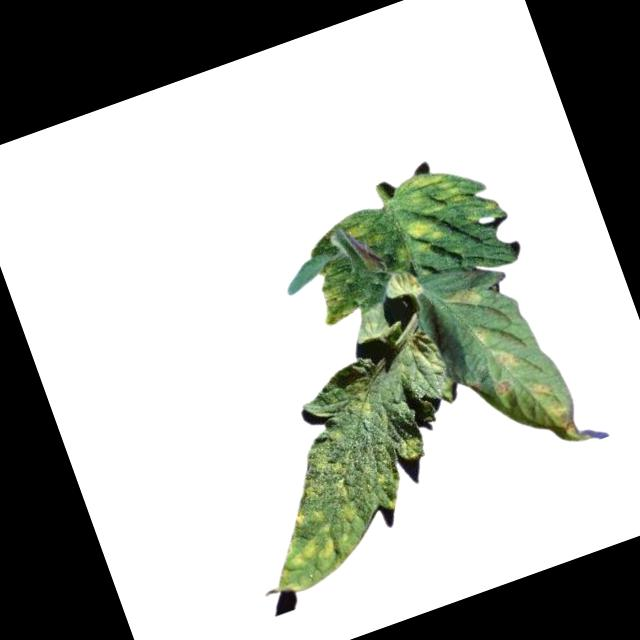Leaf_Mold: (233, 428, 387, 600), (384, 152, 507, 260), (311, 276, 363, 329), (540, 399, 581, 444), (382, 264, 426, 303), (486, 338, 527, 376), (447, 279, 487, 317), (343, 387, 381, 425), (464, 320, 494, 350), (531, 378, 555, 405)
